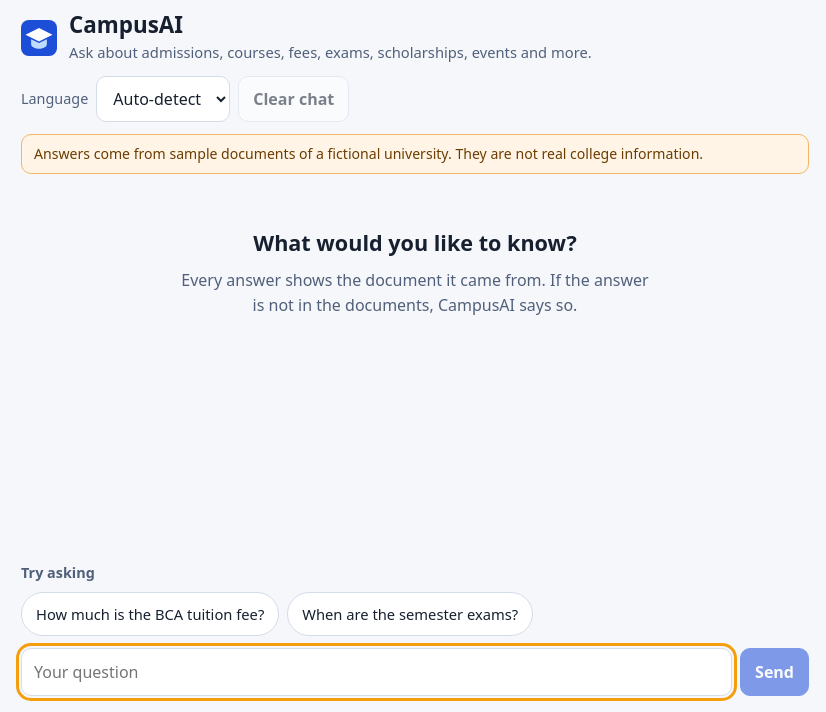
Test: App › clears the conversation
In the field labelled "Your question": (377, 672) [21,648,732,696], type "BCA fee?"
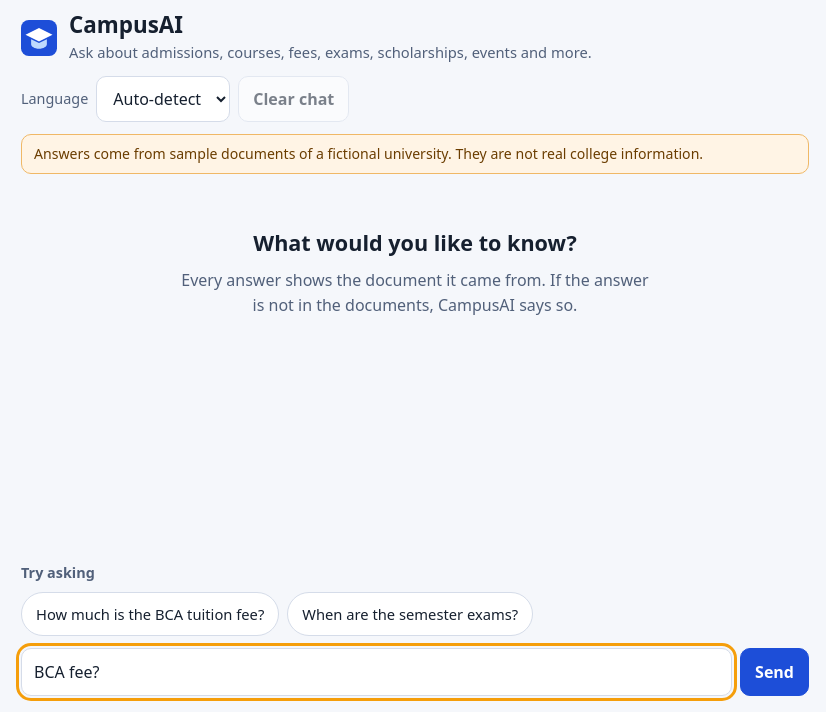
Click the button "Send": (775, 672) [740,648,809,696]
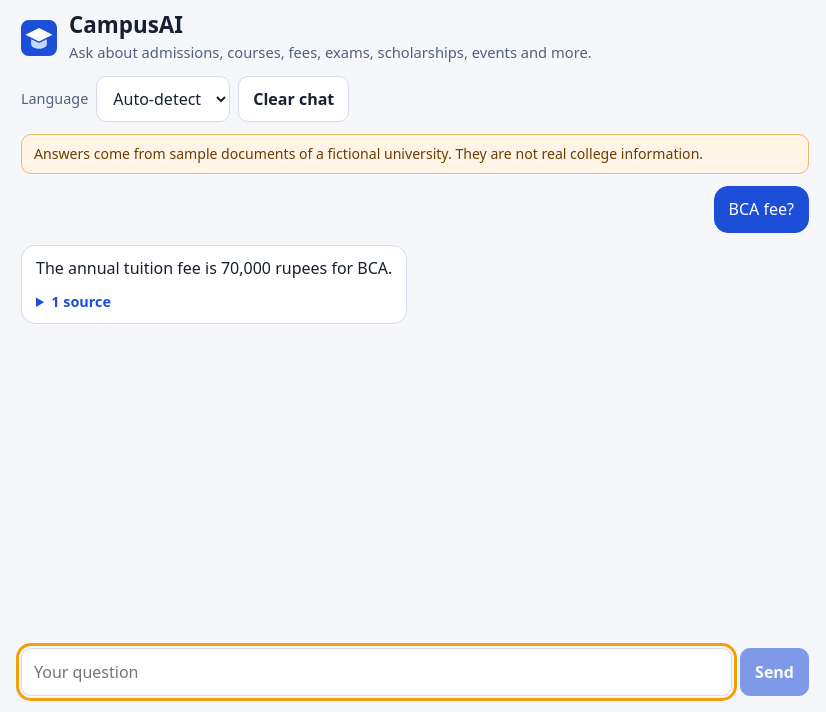
Expected: the text "The annual tuition fee is 70,000 rupees for BCA." is shown, [36,256,392,281]
Click the button "Clear chat": (294, 99) [238,76,349,122]
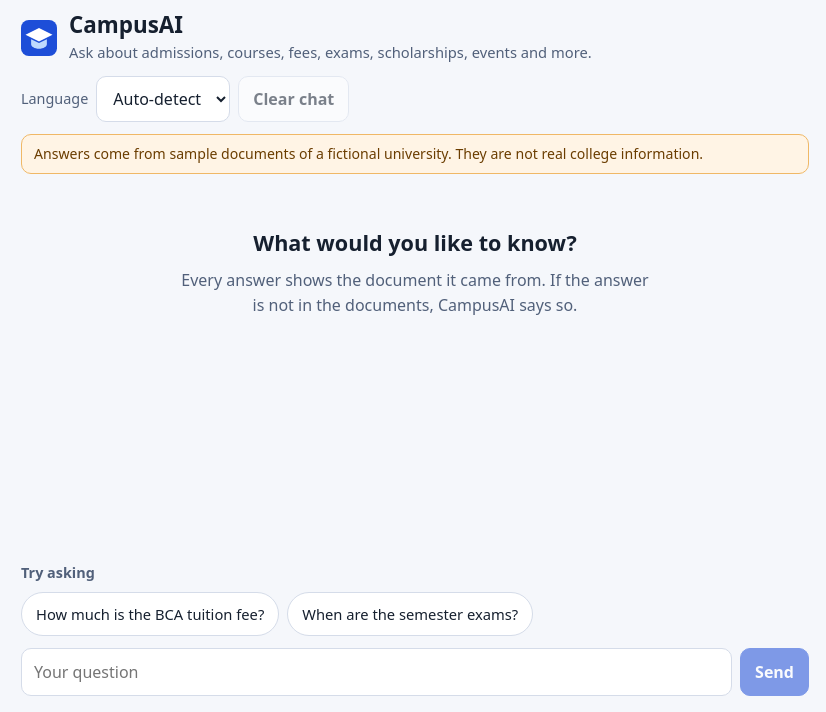
Expected: the text "The annual tuition fee is 70,000 rupees for BCA." is gone
Expected: the heading "What would you like to know?" is shown, [253,228,577,257]
